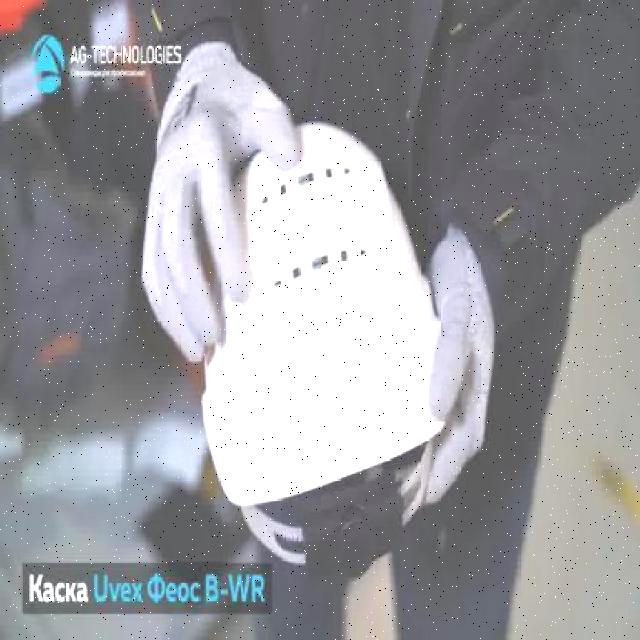Gloves: (139, 36, 301, 370), (386, 224, 497, 510)
Helmet: (199, 119, 447, 510)
